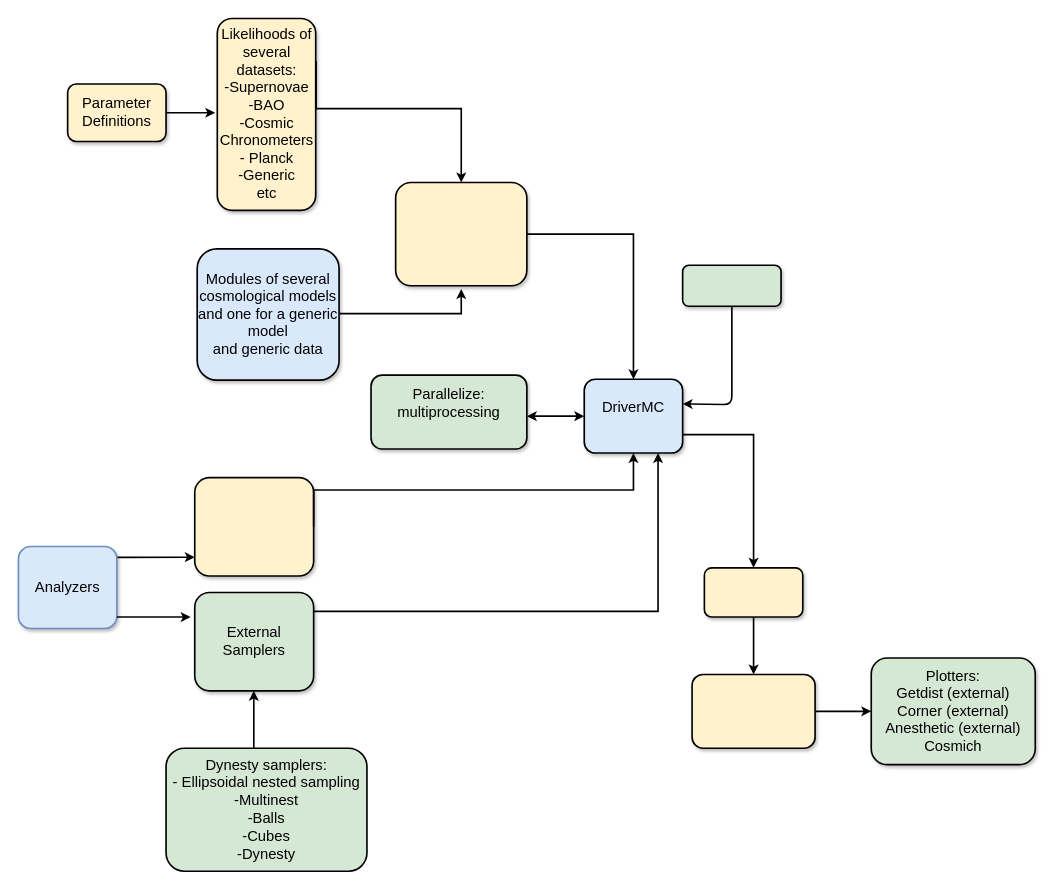
The diagram is 1055 pixels wide and 886 high, and some of its shapes have lost their labels. Each missing label, with the centre of its shape:
.ini file: pixel 732 286
Chains paramnames summary: pixel 754 712
MCAnalyzer GMS MaxAnalizer Genetic: pixel 254 527
Output: pixel 754 593
RunBase: pixel 461 235
